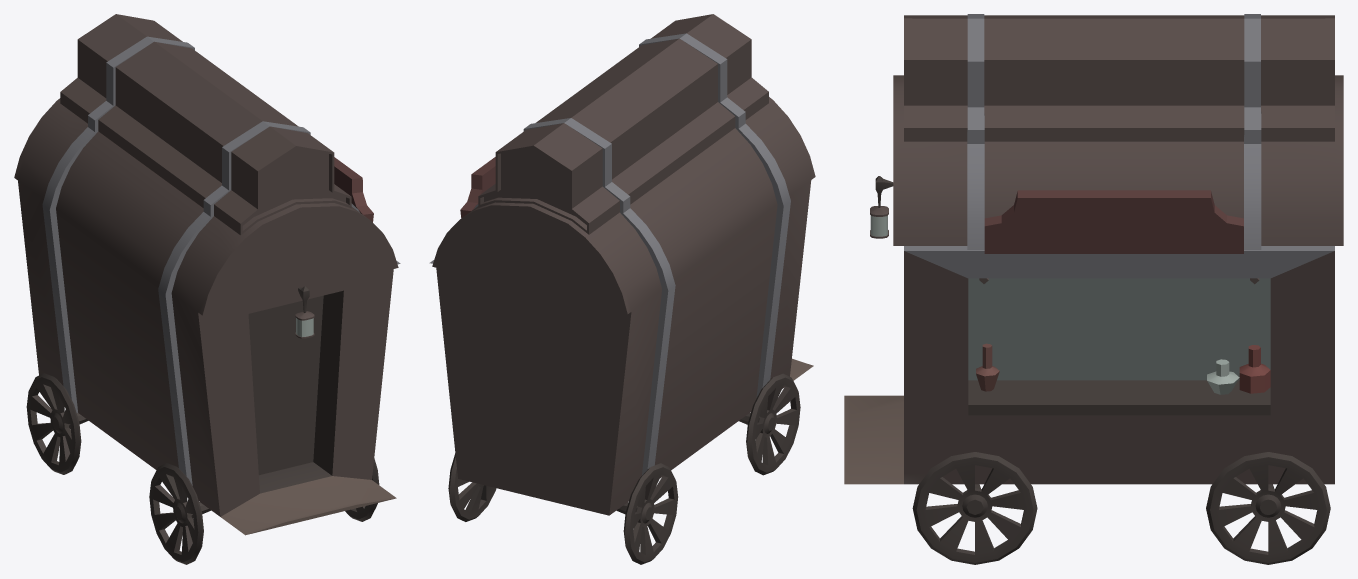
File: wagon.fbx
The picture shows the model from 3 angles, left to right: view 1: azimuth 30°, elevation 25°; view 2: azimuth 150°, elevation 25°; view 3: azimuth 270°, elevation 25°; orthographic projection. The views are drawn at different scales.
Visible parts, largest first — view 1: wagon; view 2: wagon; view 3: wagon.
Boxes of the visible parts, x1,y1,x2,y2 form: wagon: (14, 14, 400, 564); wagon: (429, 14, 815, 564); wagon: (844, 14, 1343, 564).
Size of the model in its own units: 274 by 498 by 454.
1 material, 1 textured.
